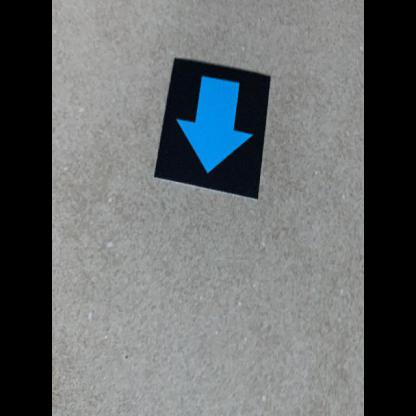down: (154, 56, 273, 203)
